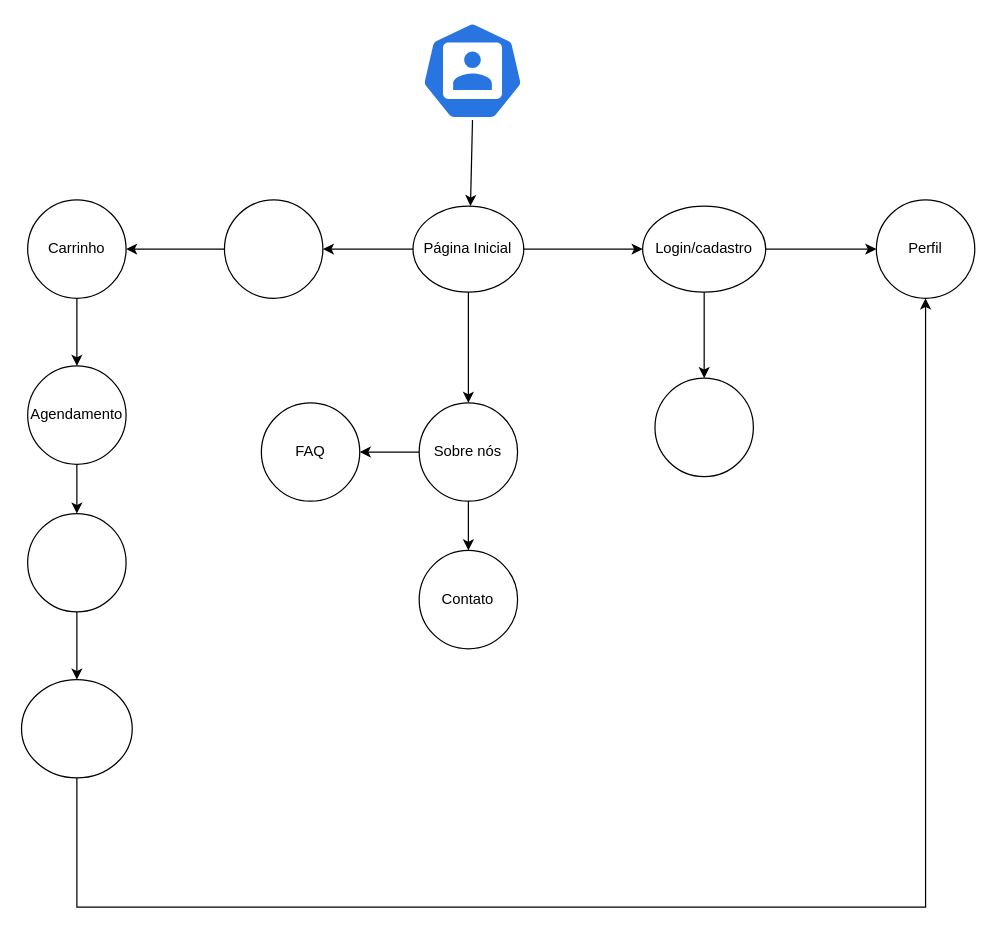
Image size: 996x938. Some labels were removed from this diagram. The shapes that lost their labels are listed below. From the top down, each one's box as (x1, y1, x2, y2) in pixels, then its label:
(223, 199, 323, 298): Monte sua festa
(654, 377, 753, 477): Recuperação de senha
(26, 512, 126, 612): Pagamento
(20, 678, 132, 778): Confirmação de pagamento
